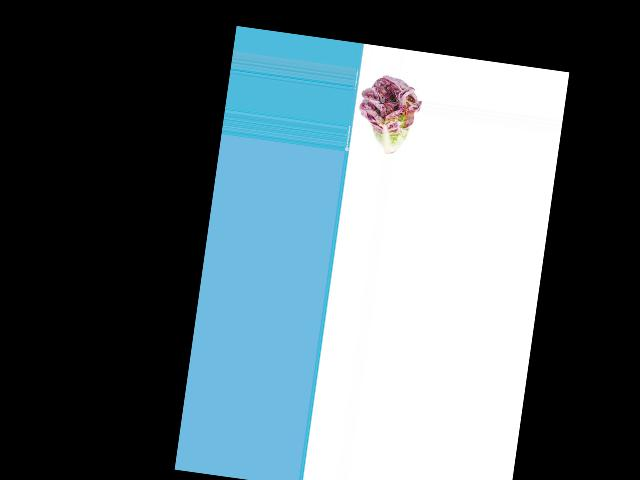lettuce: (353, 73, 422, 157)
